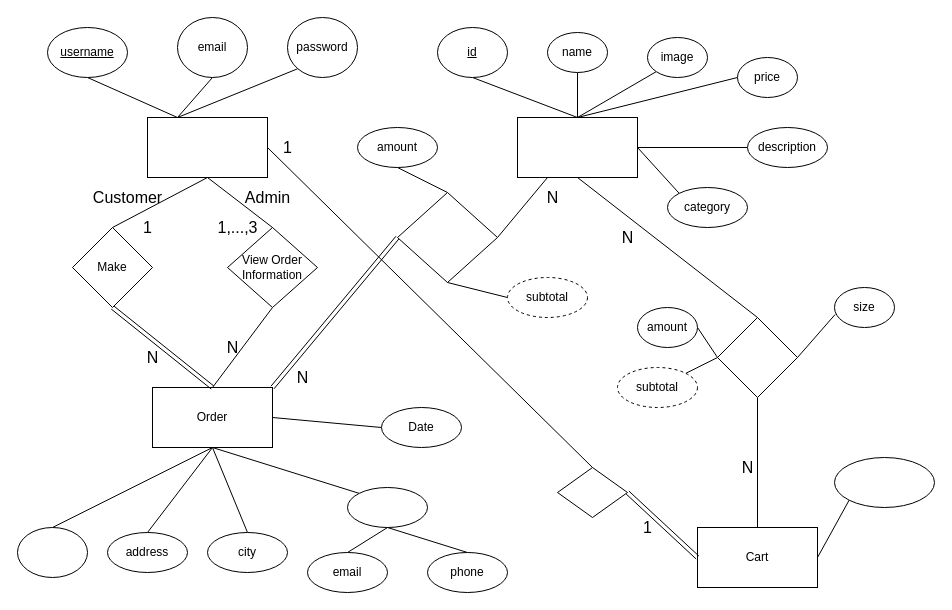
This 952x610 diagram has some shape labels left out. The shapes that lost their labels are listed below. From the top down, each one's centre as x and y in pixels, then its label:
the point at 207,147: Account
the point at 577,147: Product
the point at 447,237: Detailed Product
the point at 757,357: contain
the point at 592,492: has
the point at 884,482: Cart_id
the point at 387,507: contact
the point at 52,552: order_id
